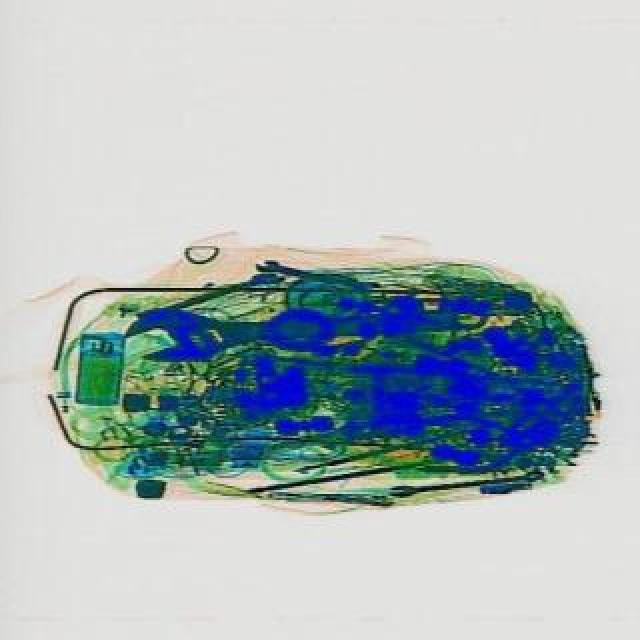scissors: (116, 284, 486, 364), (384, 466, 542, 498), (250, 256, 374, 292)
